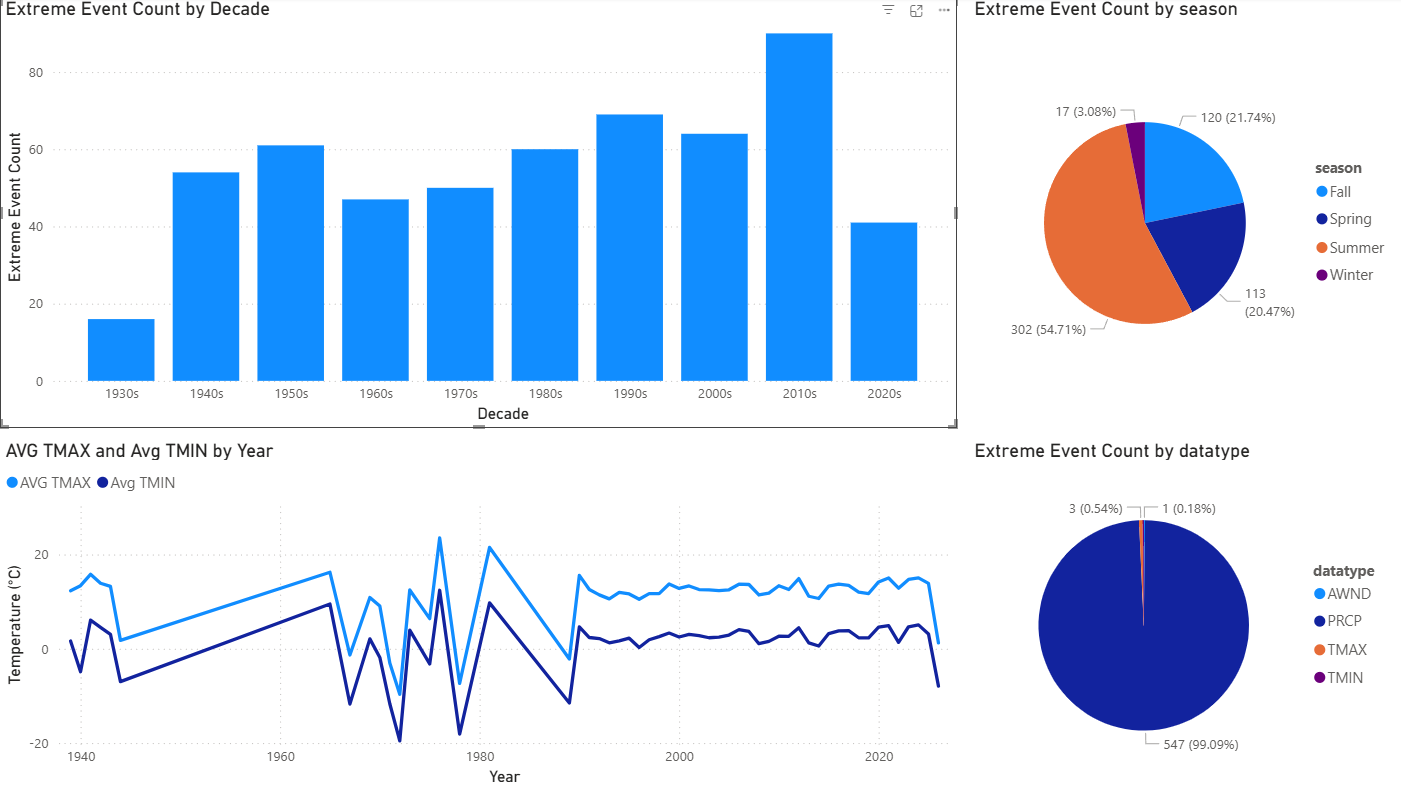

What the dashboard file says about the page in this screenshot:
{"tool":"powerbi","page":{"name":"Page 1","canvas":[1280,720],"ordinal":0},"visuals":[{"type":"clusteredColumnChart","fields":{"Category":["dim_date.Decade"],"Y":["fact_weather_observations.Extreme Event Count"]},"box":[9.6,0,868.6,391.1],"z":0},{"type":"lineChart","fields":{"Category":["dim_date.date.Variation.Date Hierarchy.Year","dim_date.date.Variation.Date Hierarchy.Quarter","dim_date.date.Variation.Date Hierarchy.Month","dim_date.date.Variation.Date Hierarchy.Day"],"Y":["dim_date.Avg TMAX","dim_date.Avg TMIN"]},"box":[10,401,869,319],"z":1000},{"type":"pieChart","fields":{"Y":["fact_weather_observations.Extreme Event Count"],"Series":["dim_date.season"]},"box":[889,0,391,391],"z":2000},{"type":"pieChart","fields":{"Y":["fact_weather_observations.Extreme Event Count"],"Series":["fact_weather_observations.datatype"]},"box":[889,401,391,319],"z":2001}]}

Visuals, with their boxes in screenshot pixels (x1, y1, x2, y2), scaled from the page's 1280x720 canvas onto the 1401x791 screenshot:
clusteredColumnChart - dim_date.Decade x fact_weather_observations.Extreme Event Count: 11:0:961:430
lineChart - dim_date.date.Variation.Date Hierarchy.Year x dim_date.date.Variation.Date Hierarchy.Quarter: 11:441:962:790
pieChart - fact_weather_observations.Extreme Event Count x dim_date.season: 973:0:1400:430
pieChart - fact_weather_observations.Extreme Event Count x fact_weather_observations.datatype: 973:441:1400:790
